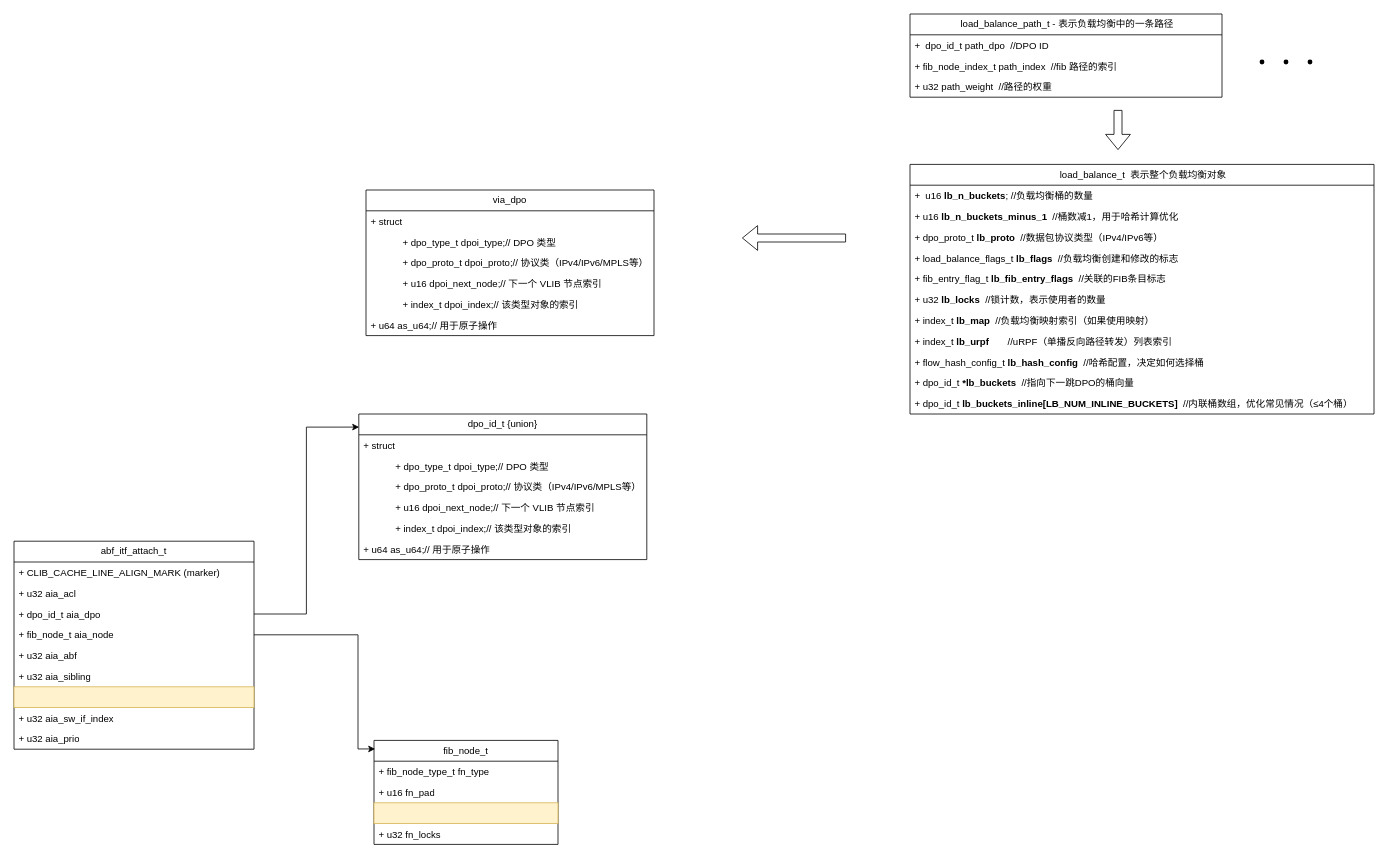
This 1388x861 diagram has some shape labels left out. Here are the shapes that lost their labels. From the top down, the centre of each, then its label:
At [133,697]: "+ fib_protocol_t aia_proto".
At [465,813]: "+ fib_node_list_t fn_children".
